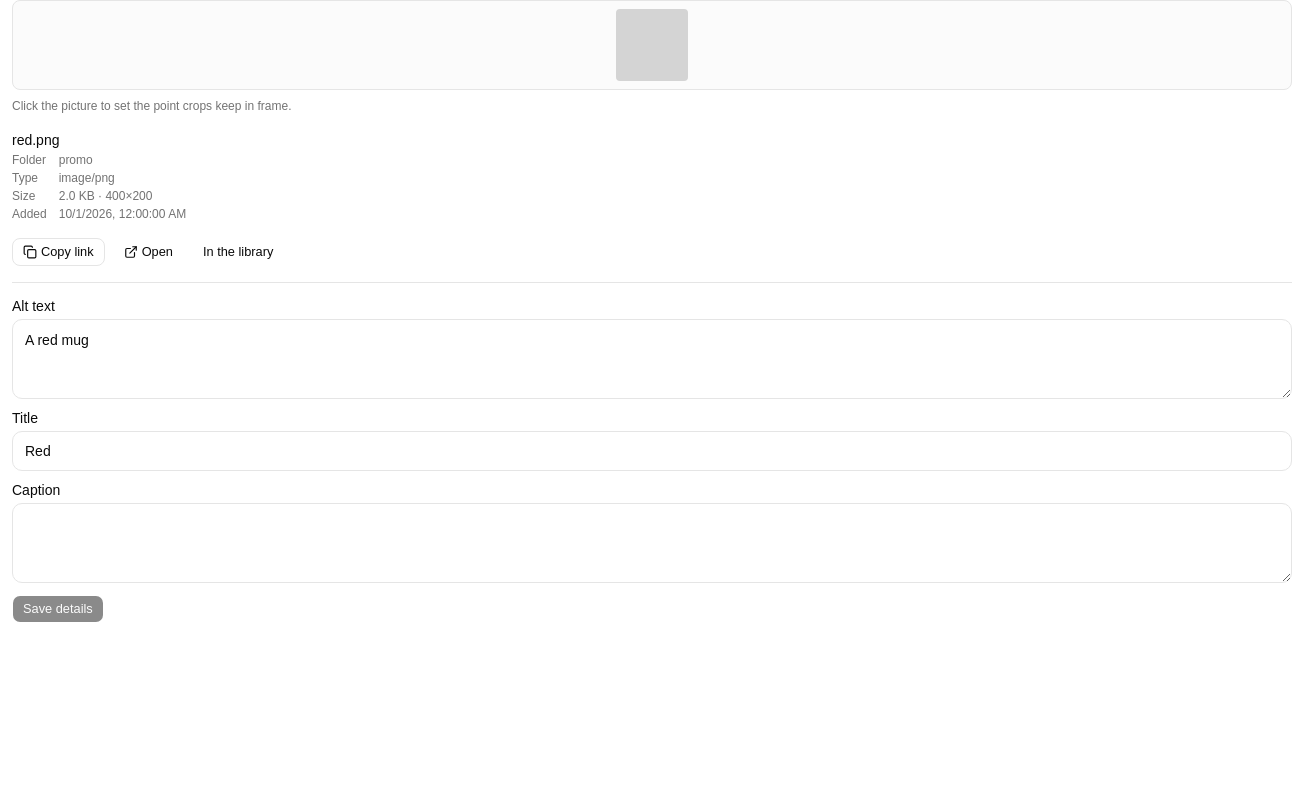
Test: AssetPanel › links to the file and its folder in the library, and copies its link
Click the button "Copy link" at (58, 252), box [12,238,105,266]
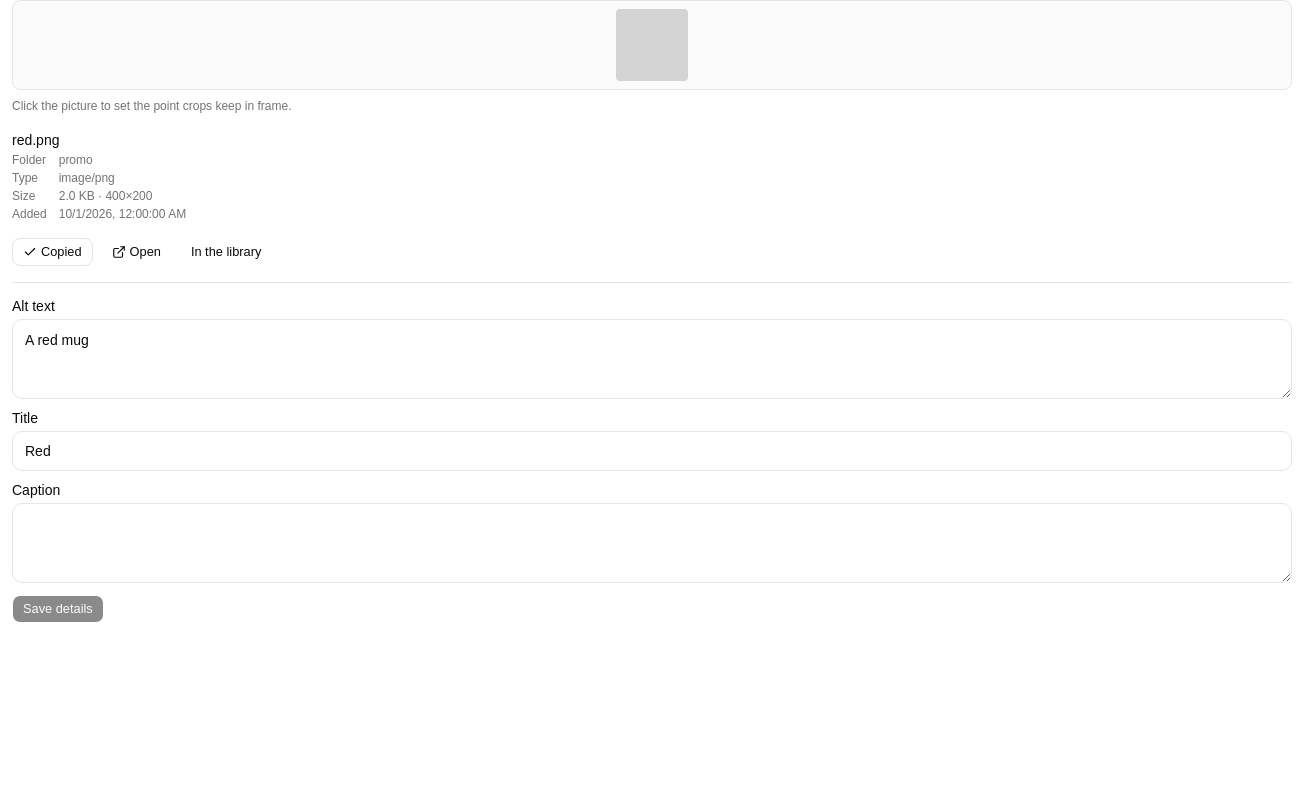
Check: the button "Copied" is shown, box [12,238,93,266]
